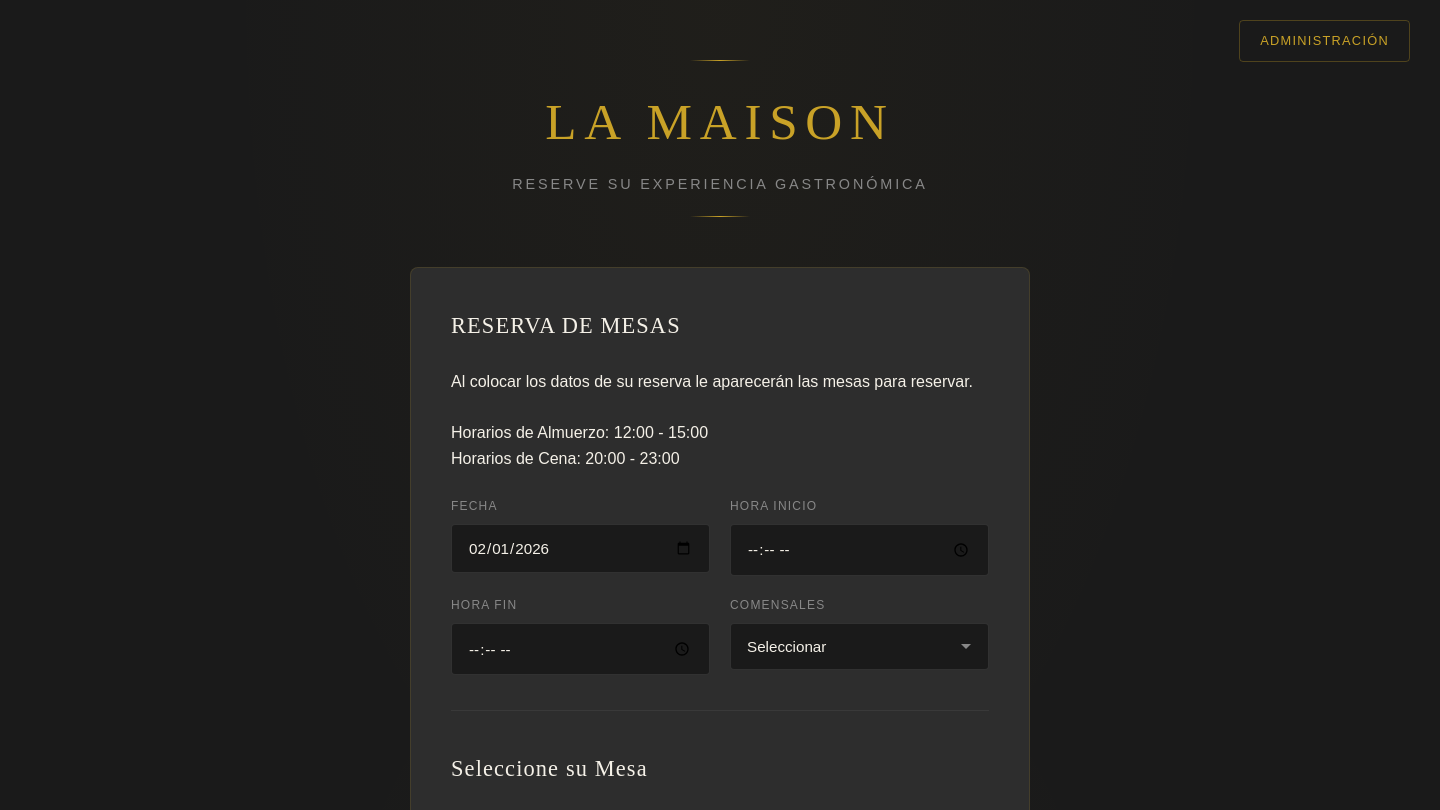
Integración del Flujo de Reservas › renderiza el formulario, permite completarlo y enviarlo exitosamente
The image size is (1440, 810).
Expected: the heading "La Maison" is shown, [545,93,895,150]
Type "13:00" into the time field labelled "Hora Inicio" at point(860, 550), box [730,524,989,576]
Type "14:00" into the time field labelled "Hora Fin" at point(580, 649), box [451,623,710,675]
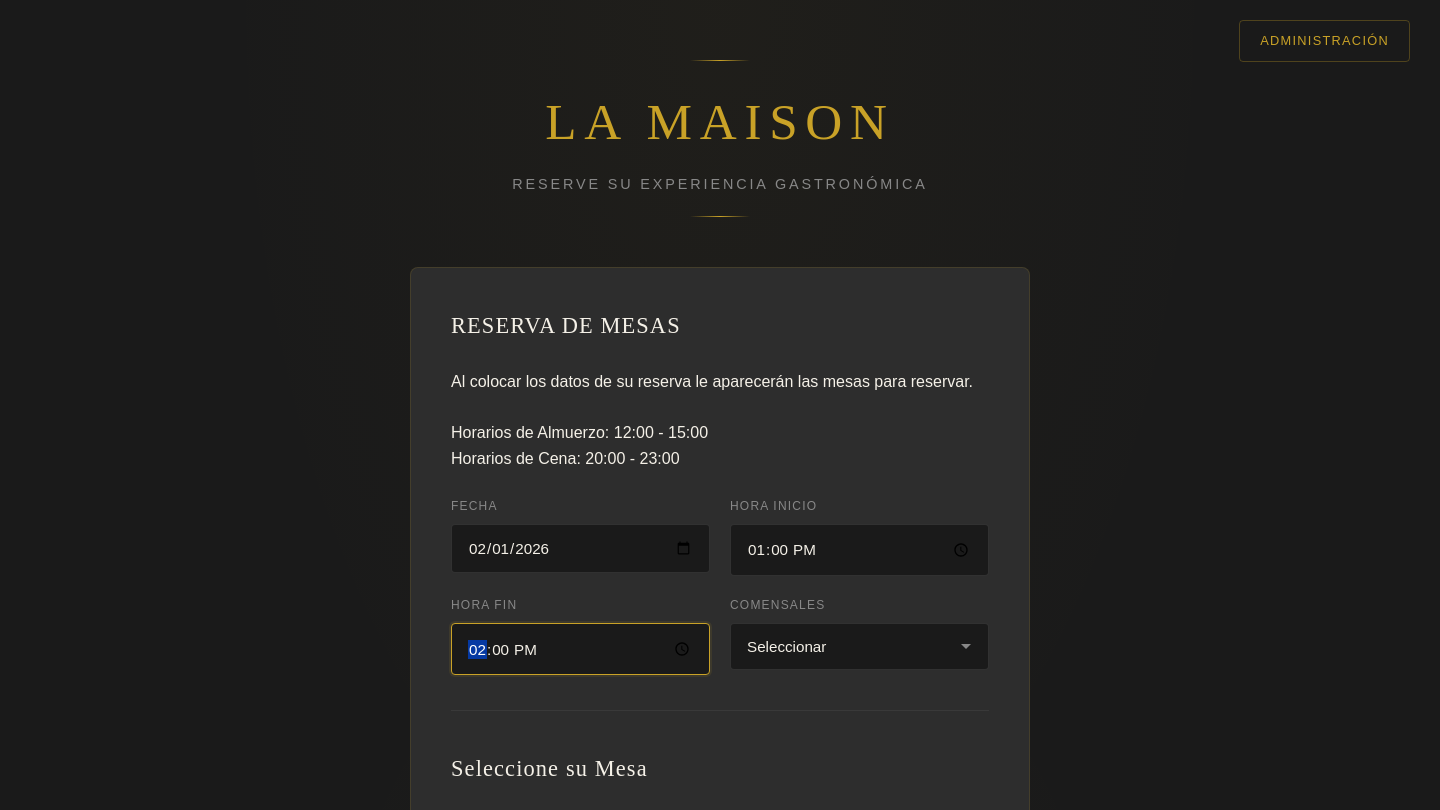
Select "4 personas" in the dropdown labelled "Comensales" at point(860, 647), box [730,623,989,670]
(page scrolled)
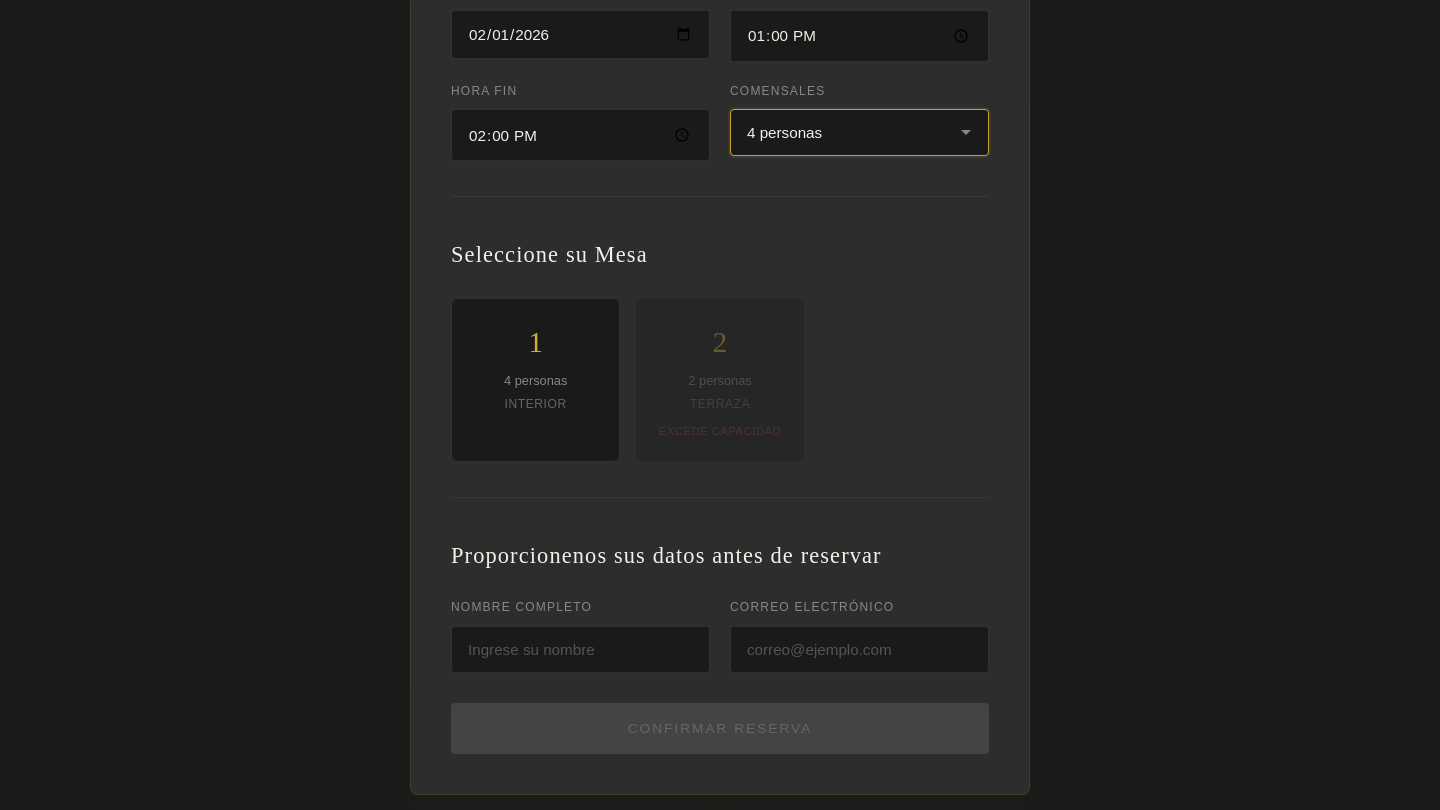
Expected: the text "Interior" is shown
Click the text "Interior" at point(536, 404), box [505,397,567,411]
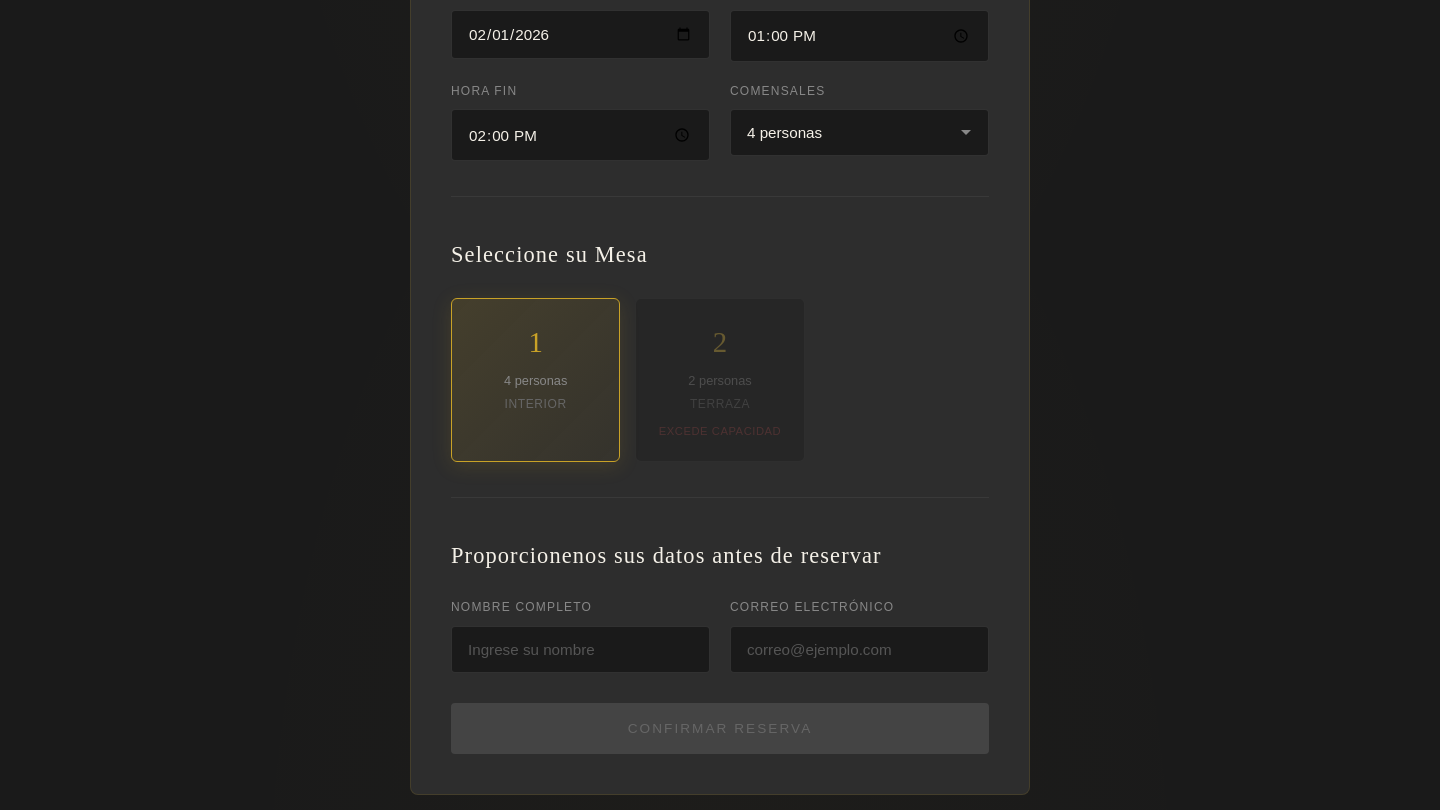
Type "Test User" into the field labelled "Nombre completo" at point(580, 649), box [451,626,710,673]
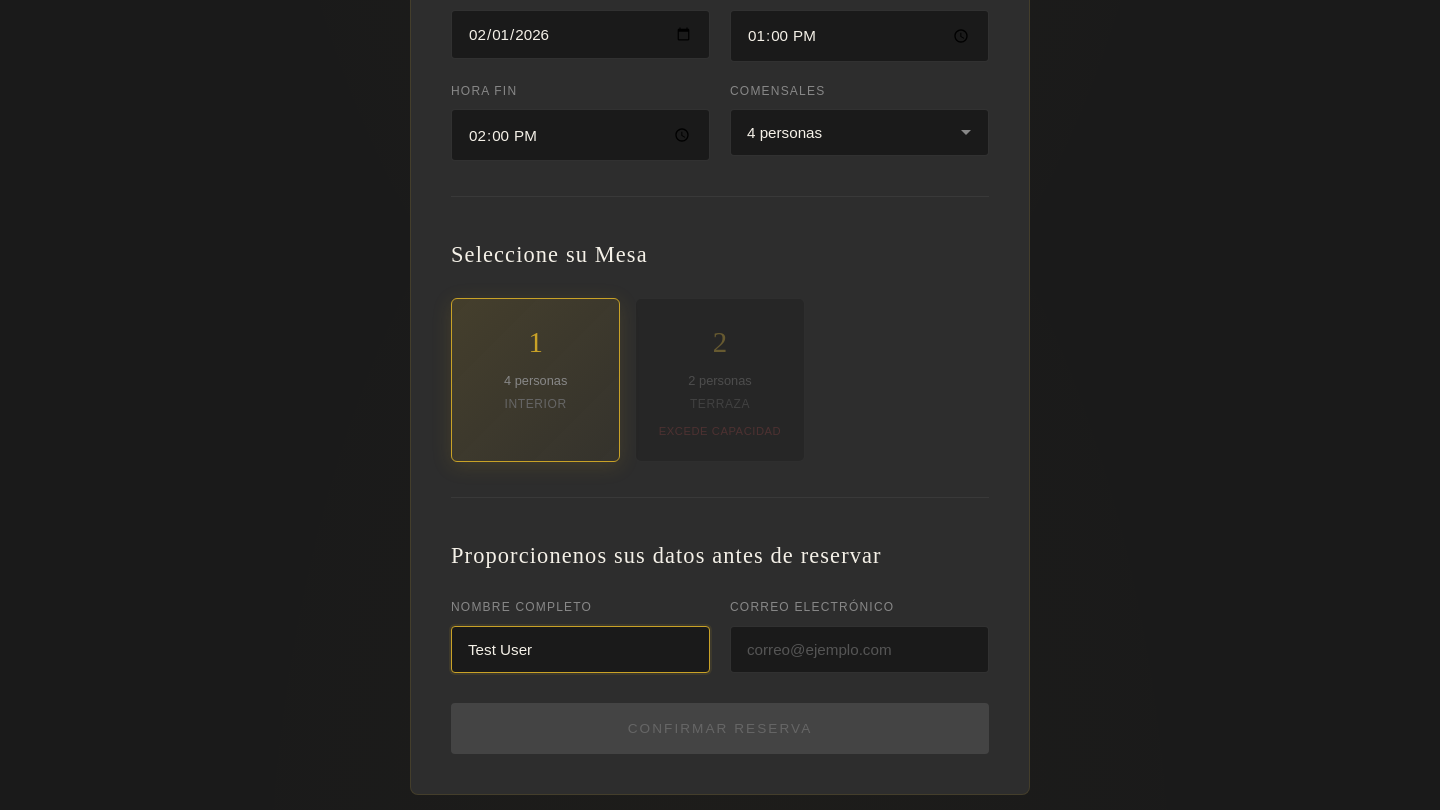
Type "test@example.com" into the field labelled "Correo electrónico" at point(860, 649), box [730,626,989,673]
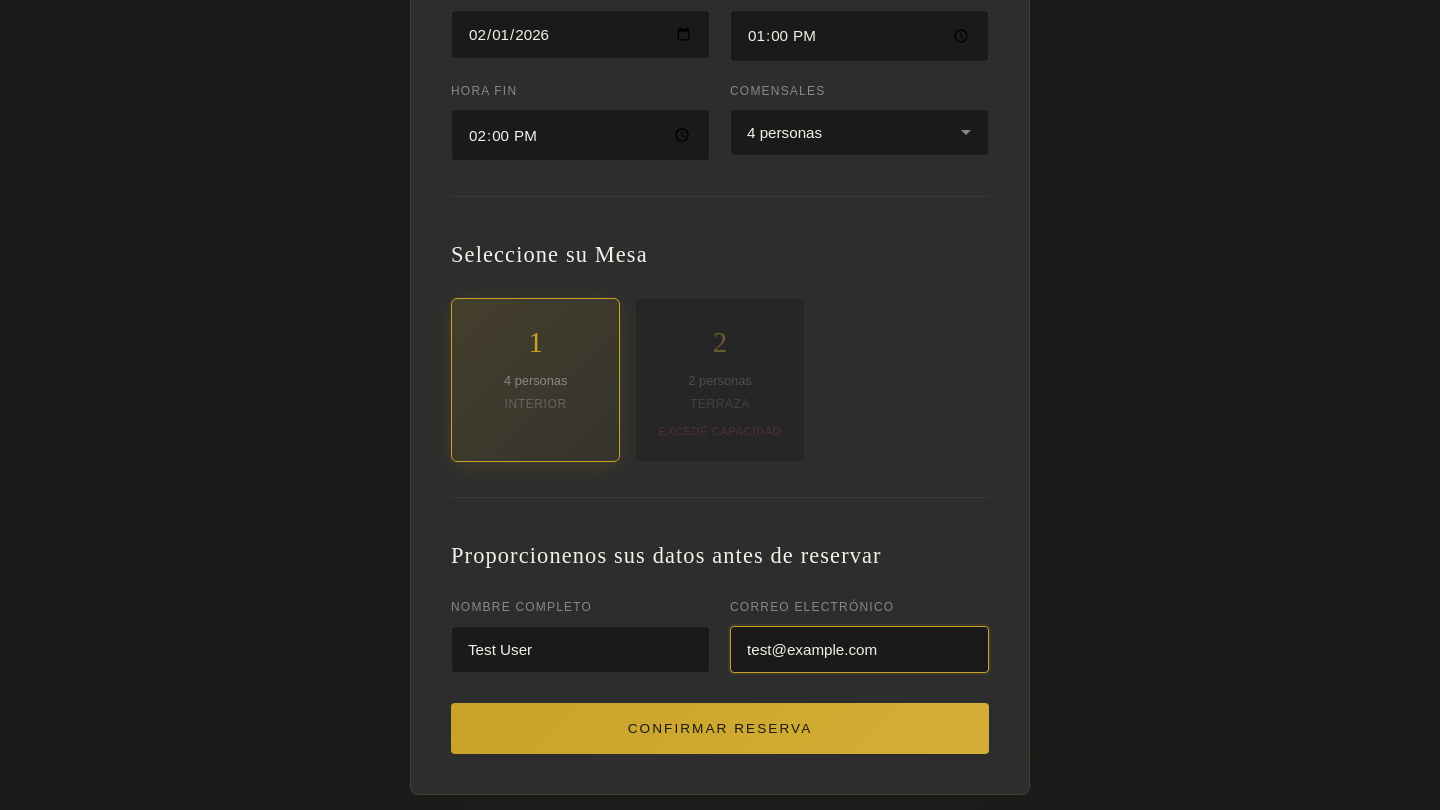
Expected: the button "Confirmar Reserva" is enabled
Click the button "Confirmar Reserva" at point(720, 728), box [451,703,989,754]
(page scrolled)
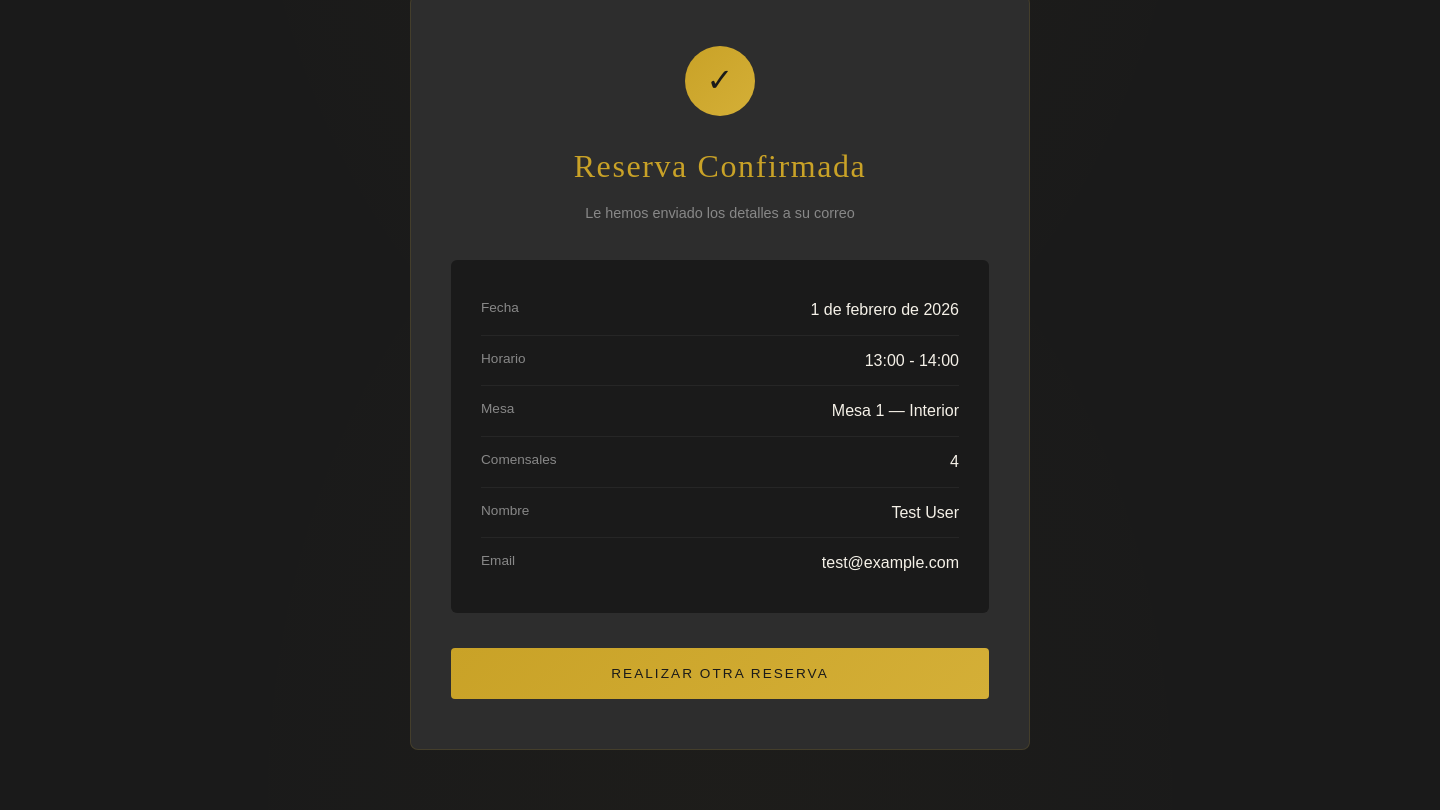
Expected: the heading "Reserva Confirmada" is shown, [574,148,866,184]
Expected: the text "Le hemos enviado los detalles a su correo" is shown, [585,205,855,221]
